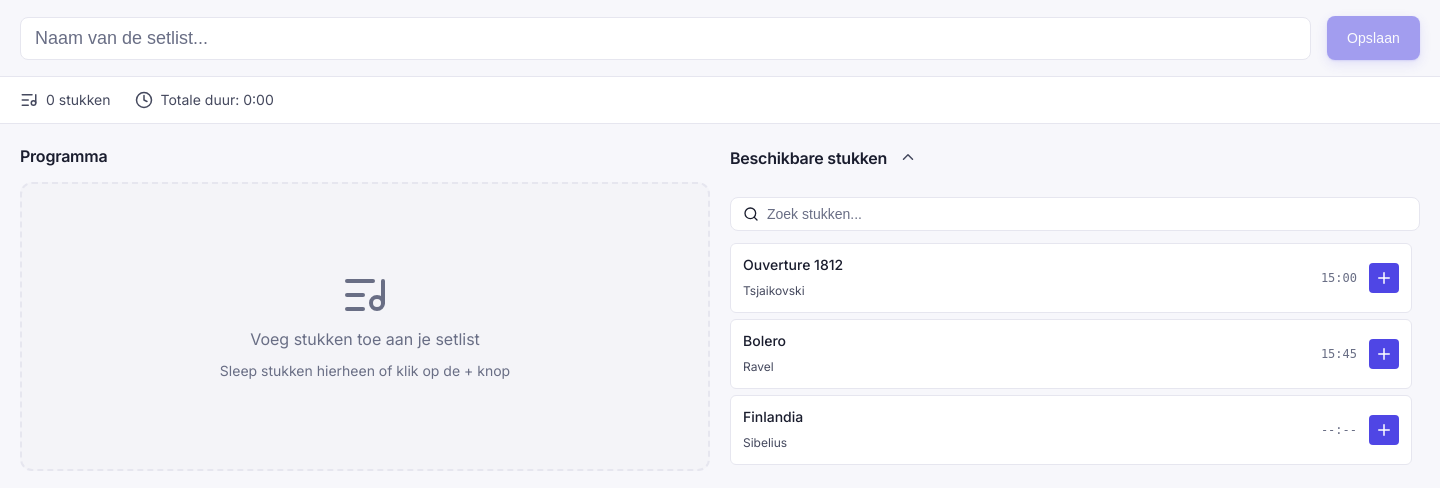
SetlistBuilder: stukken kiezen › verplaatst een gekozen stuk naar het programma en telt de duur op
Click the button titled "Toevoegen aan setlist" next to "15:00" at (1384, 278), box left=1369, top=263, right=1399, bottom=293
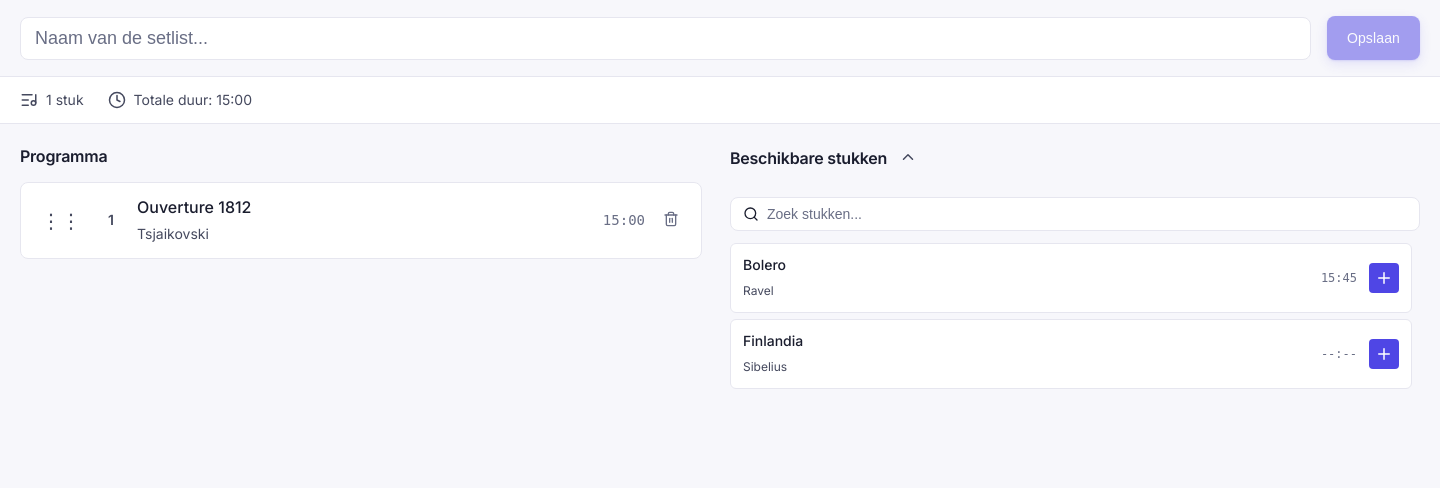
Expected: the text "1 stuk" is shown, left=46, top=89, right=84, bottom=111
Expected: the text "Totale duur: 15:00" is shown, left=134, top=89, right=252, bottom=111
Expected: the number of buttons titled "Toevoegen aan setlist" is 2
Click the button titled "Toevoegen aan setlist" next to "15:45" at (1384, 278), box left=1369, top=263, right=1399, bottom=293
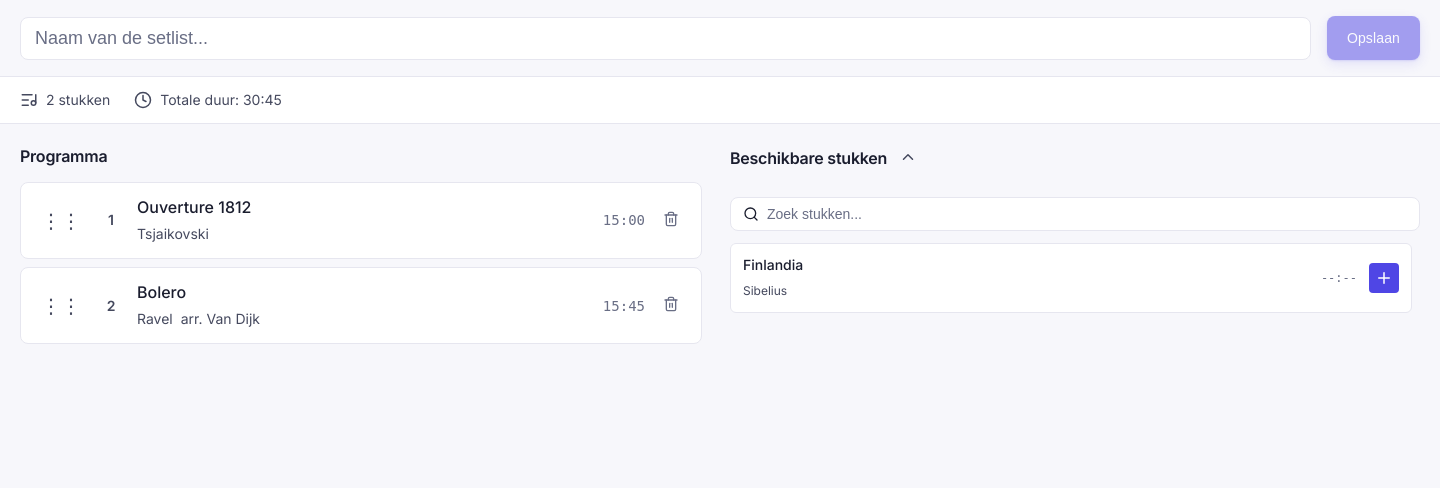
Expected: the text "1" is shown, left=97, top=207, right=125, bottom=235
Expected: the text "2 stukken" is shown, left=46, top=89, right=110, bottom=111
Expected: the text "Totale duur: 30:45" is shown, left=160, top=89, right=282, bottom=111
